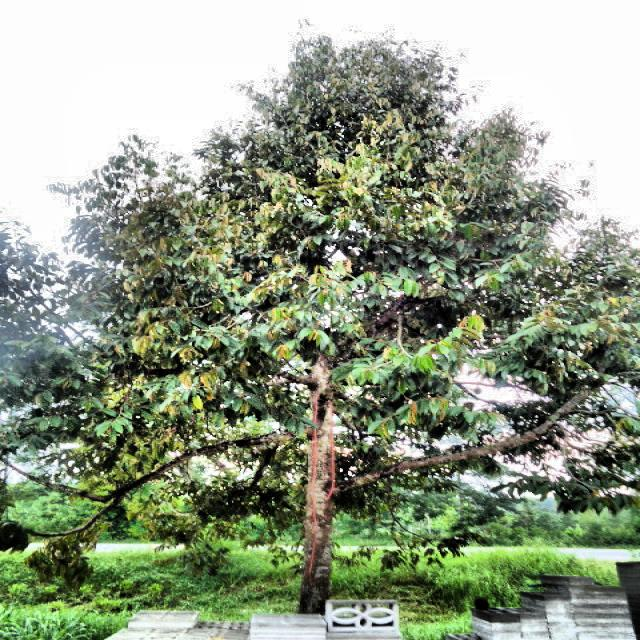arvore: (282, 282, 346, 629)
